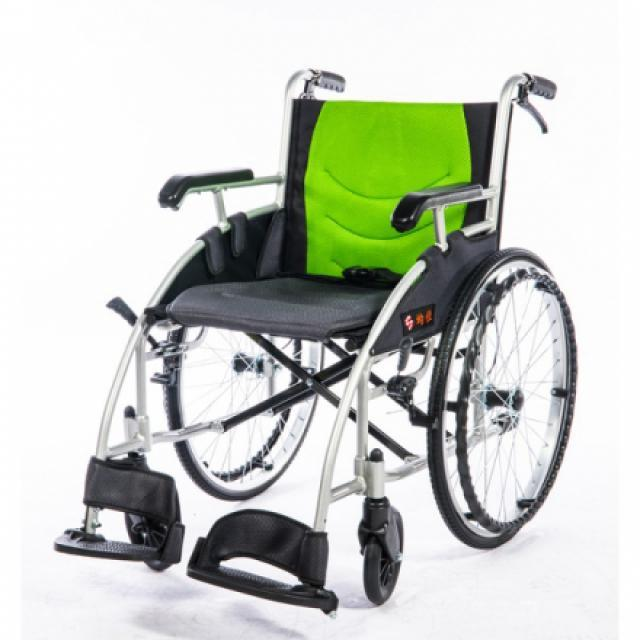wheelchair: (42, 58, 582, 639)
